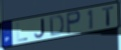1: (87, 8, 94, 31)
D: (49, 15, 65, 37)
J: (34, 18, 46, 39)
L: (16, 22, 29, 43)
P: (66, 10, 82, 35)
T: (101, 5, 115, 27)
